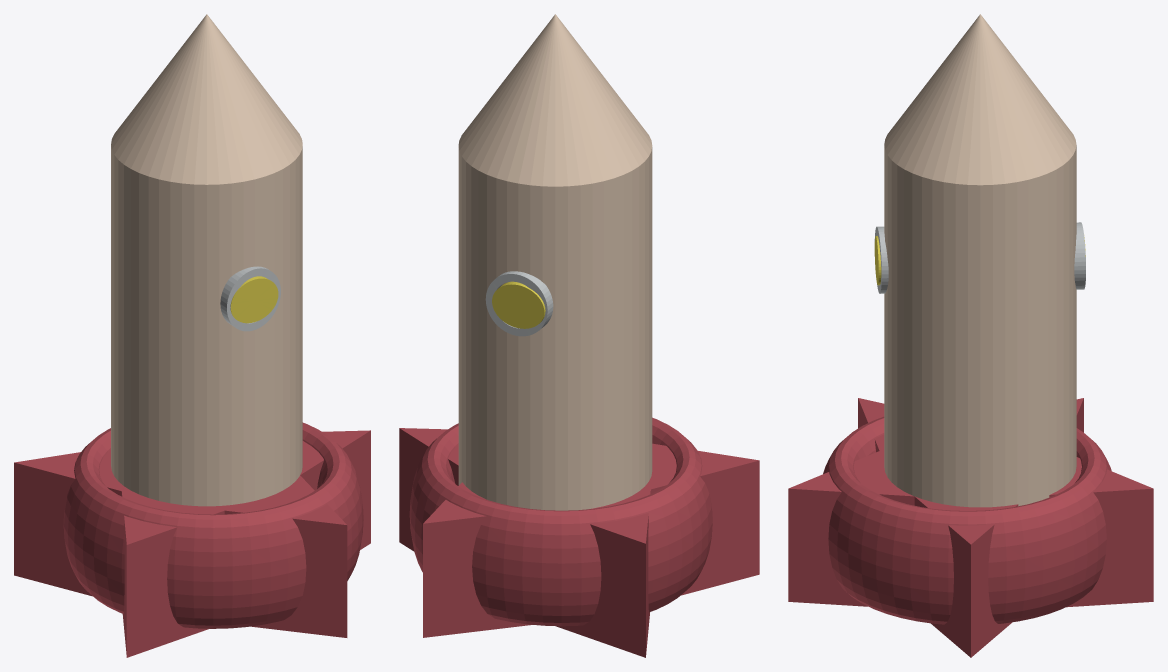
File: spaceship.glb
3 renders of one model, left to right at view 1: azimuth 30°, elevation 25°; view 2: azimuth 150°, elevation 25°; view 3: azimuth 270°, elevation 25°, orthographic.
Parts seen in each view (by area): view 1: Mesh_Mesh_head_geo.001_lambert2SG.001; view 2: Mesh_Mesh_head_geo.001_lambert2SG.001; view 3: Mesh_Mesh_head_geo.001_lambert2SG.001.
Part boxes in pixels (bbox=[...]): Mesh_Mesh_head_geo.001_lambert2SG.001: bbox=[14, 14, 370, 657]; Mesh_Mesh_head_geo.001_lambert2SG.001: bbox=[399, 14, 759, 657]; Mesh_Mesh_head_geo.001_lambert2SG.001: bbox=[788, 14, 1153, 657].
Size of the model in its own units: 3.62 by 6.5 by 3.8.
